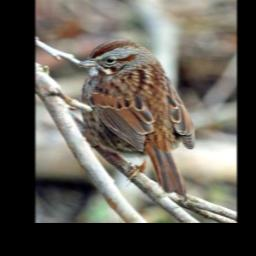Sparrow: (76, 39, 197, 196)
